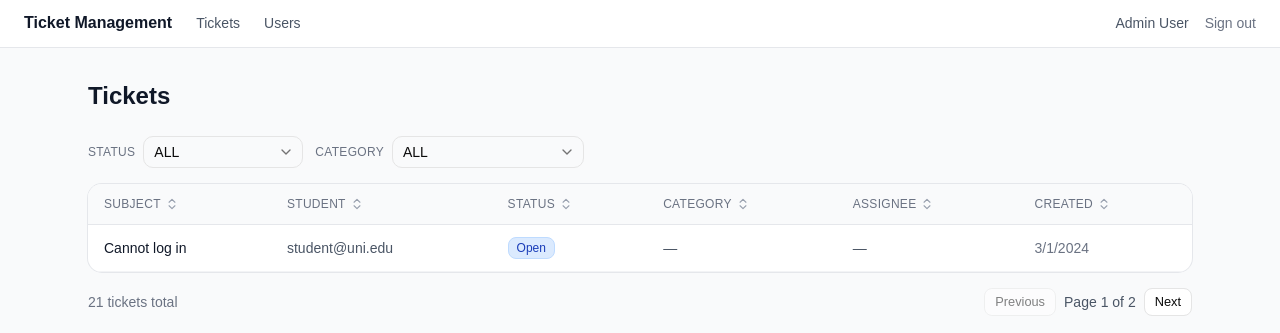
Test: TicketsPage › pagination › clicking Next increments the page
Click the button "Next" at (1168,302), box [1144, 288, 1192, 316]
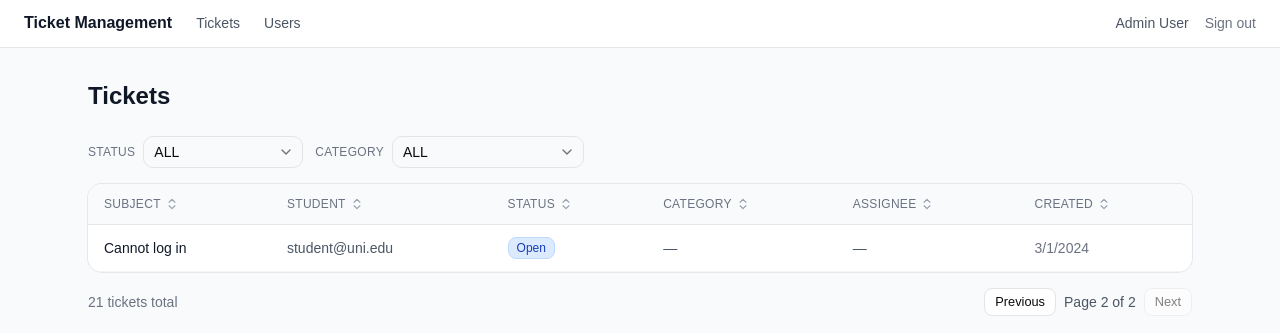
Expected: the text "Page 2 of 2" is shown, [1064, 292, 1136, 312]
